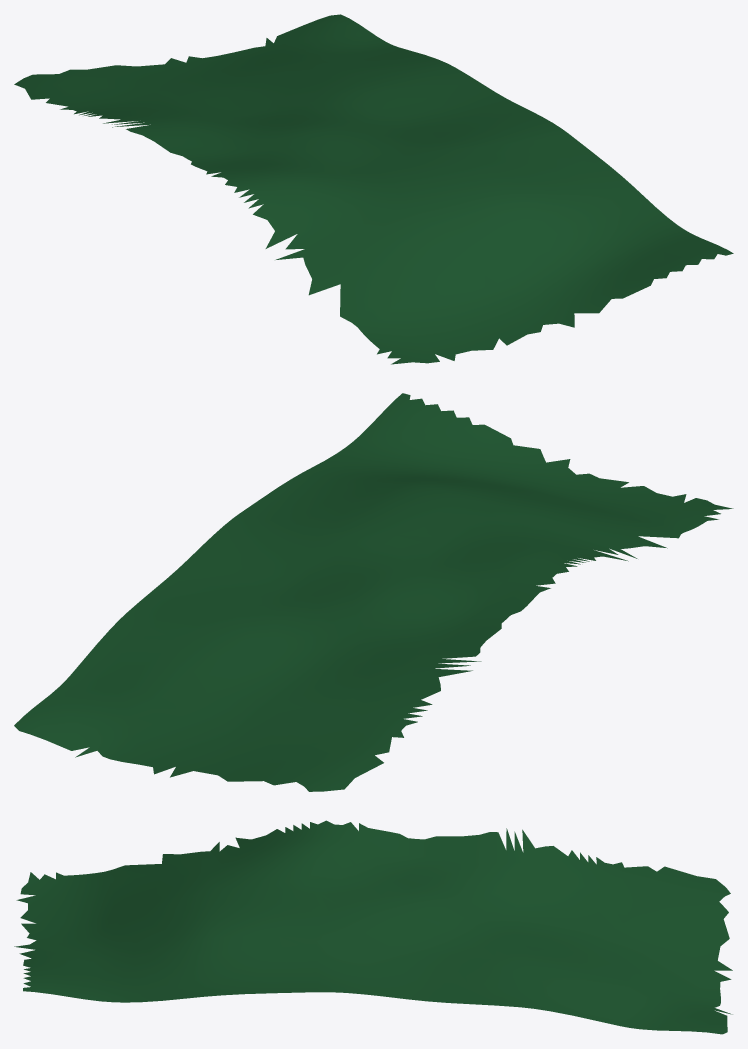
File: payo_land_xm5_ym2.glb
The picture shows the model from 3 angles, top to bottom: view 1: azimuth 30°, elevation 25°; view 2: azimuth 150°, elevation 25°; view 3: azimuth 270°, elevation 25°; orthographic projection. The views are drawn at different scales.
Visible parts, largest first — view 1: payo_land_xm5_ym2; view 2: payo_land_xm5_ym2; view 3: payo_land_xm5_ym2.
Boxes of the visible parts, x1,y1,x2,y2 form: payo_land_xm5_ym2: [14, 14, 733, 364]; payo_land_xm5_ym2: [14, 393, 733, 791]; payo_land_xm5_ym2: [14, 820, 732, 1034].
Size of the model in its own units: 132 by 31.07 by 264.
